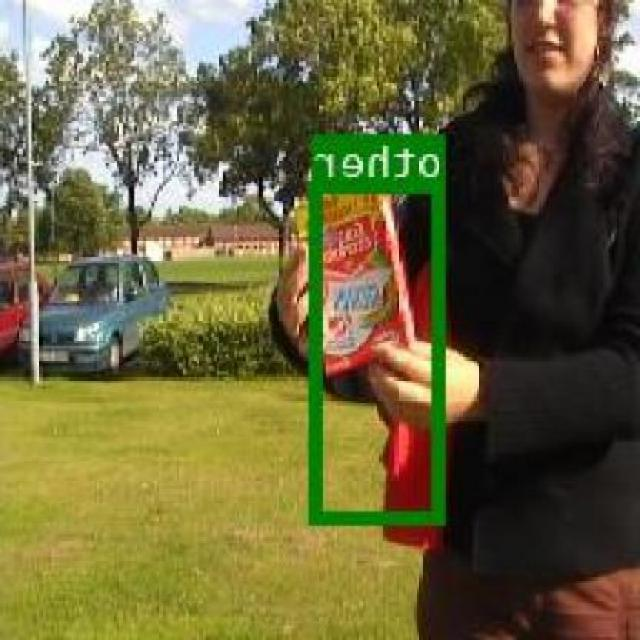other: (312, 178, 448, 524)
